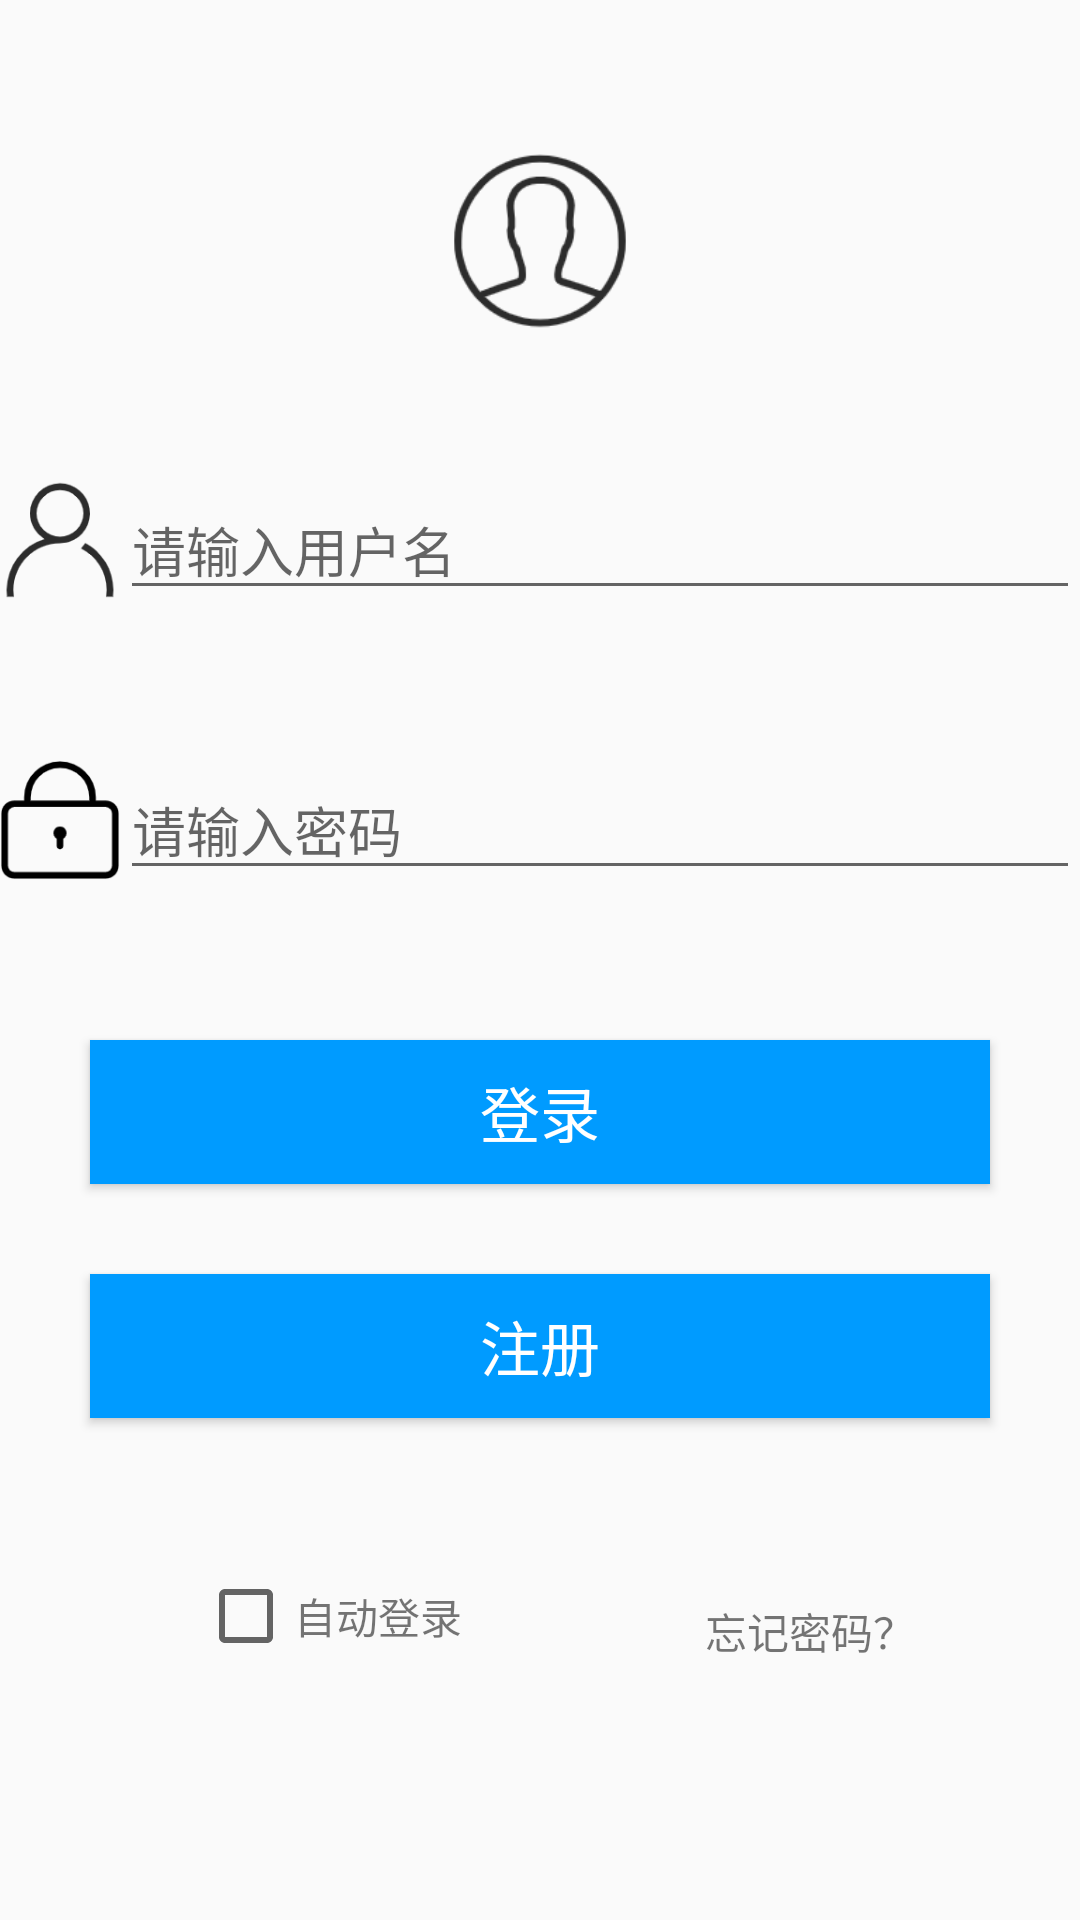

Screen size 1080×1920. Icon name, then its box in pixels as (x1, y1, x2, y2):
password: (1, 761, 119, 879)
